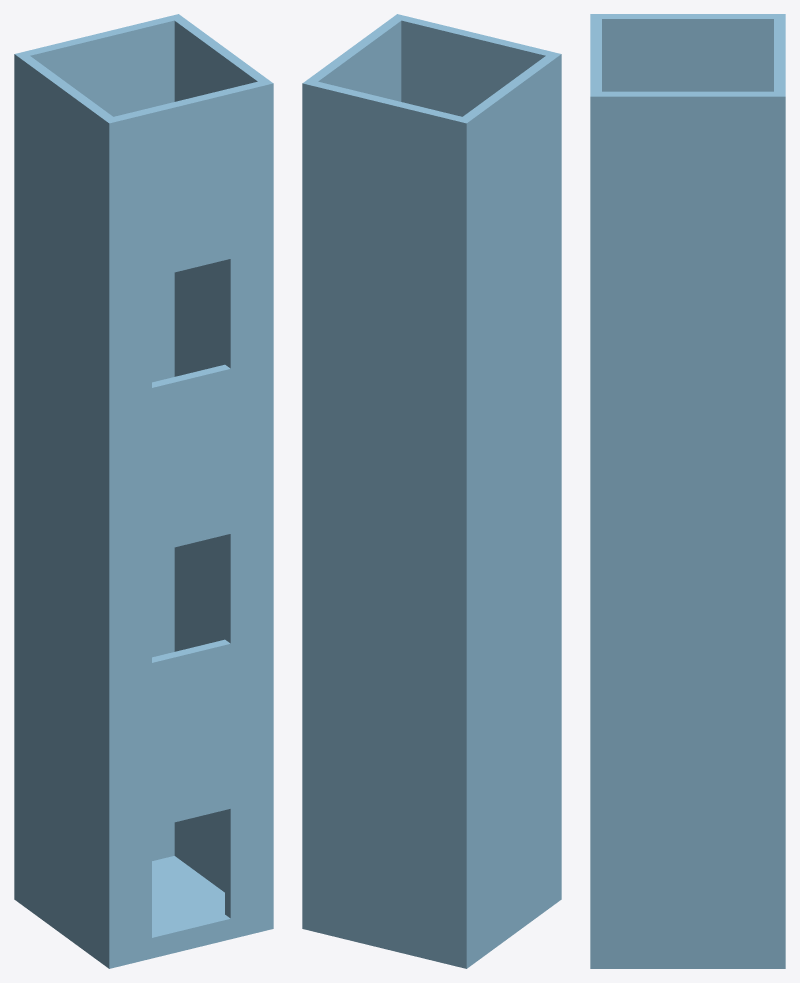
File: shaft.dae
3 views of the same model, side by side, from view 1: azimuth 30°, elevation 25°; view 2: azimuth 150°, elevation 25°; view 3: azimuth 270°, elevation 25° (orthographic). The views are drawn at different scales.
Parts seen in each view (by area): view 1: ID2; view 2: ID2; view 3: ID2.
Part boxes in pixels (<box>): ID2: <box>14,14,273,968</box>; ID2: <box>302,14,561,968</box>; ID2: <box>590,14,785,968</box>.
Size of the model in its own units: 2.5 by 2.5 by 12.3.
